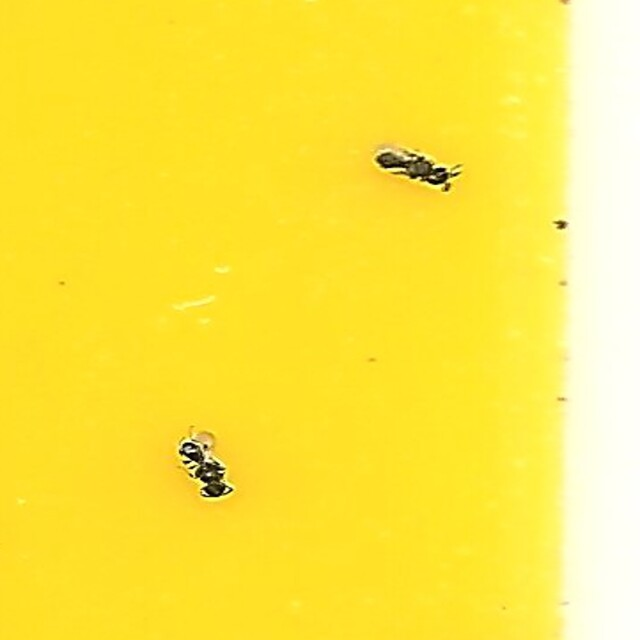Hymenoptera: (376, 140, 463, 193), (177, 431, 234, 500)
